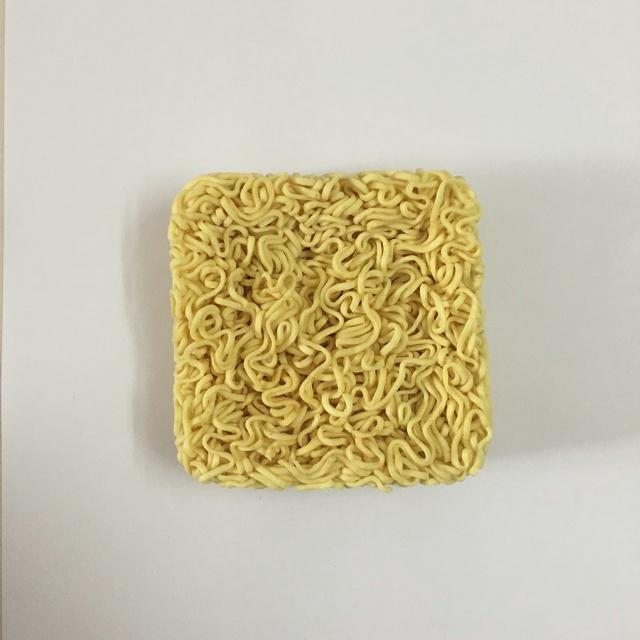noodles: (159, 157, 498, 504)
